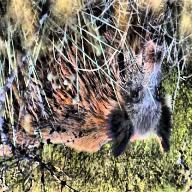boar: (14, 22, 191, 158)
